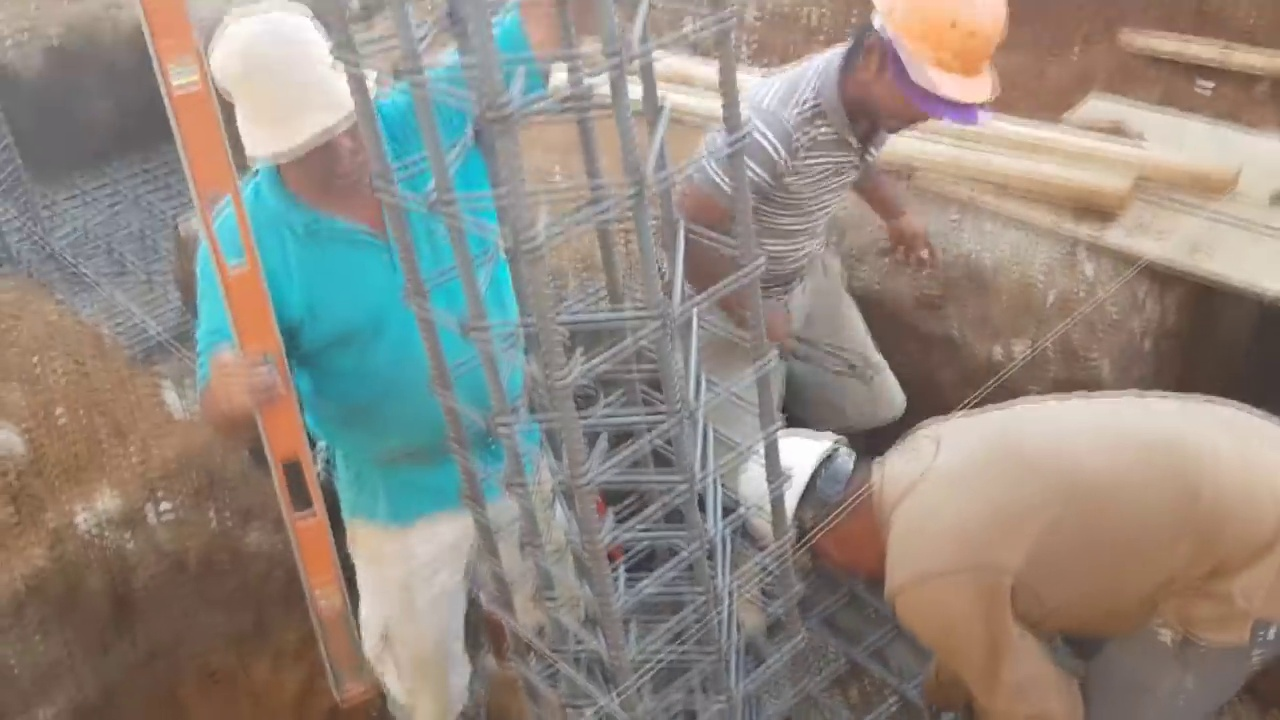helmet: (870, 2, 1010, 106), (736, 426, 842, 555)
helmet-off: (205, 3, 382, 207)
helmet-on: (831, 2, 1011, 148), (738, 425, 892, 578)
person: (194, 2, 576, 718), (736, 389, 1276, 719), (668, 4, 1014, 437)
